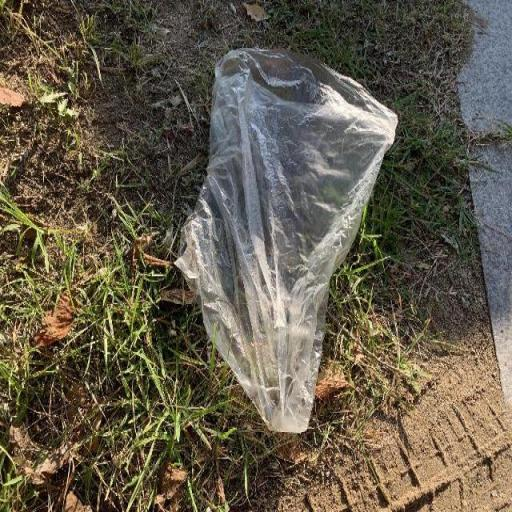plastic-bag: (171, 38, 402, 435)
